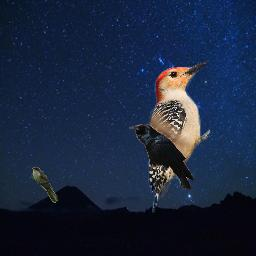Crow: (129, 124, 194, 190)
Cuckoo: (30, 166, 58, 203)
Woodpecker: (148, 59, 210, 213)
